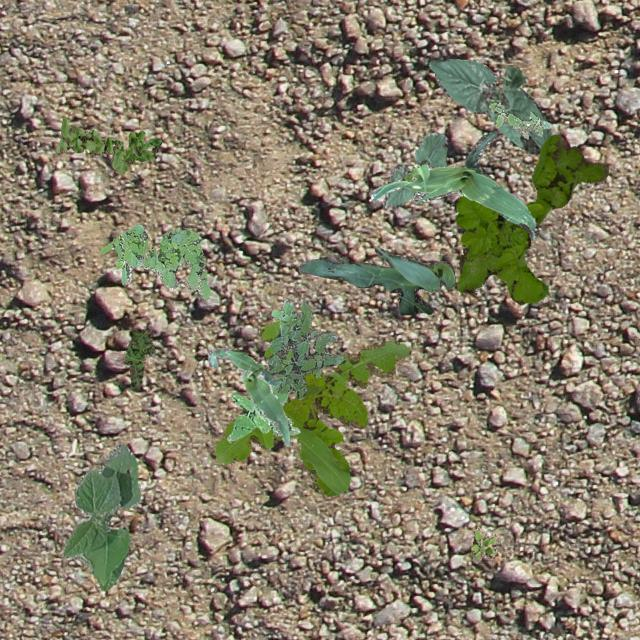crop: (369, 130, 536, 238), (428, 58, 550, 154), (60, 444, 140, 590), (298, 246, 454, 314), (207, 346, 290, 444), (382, 132, 446, 210)
weed: (212, 320, 410, 496), (453, 134, 608, 304), (100, 224, 210, 298), (266, 298, 344, 398), (56, 118, 160, 174), (226, 386, 298, 442), (488, 100, 550, 138), (124, 328, 154, 391), (470, 526, 500, 560)
